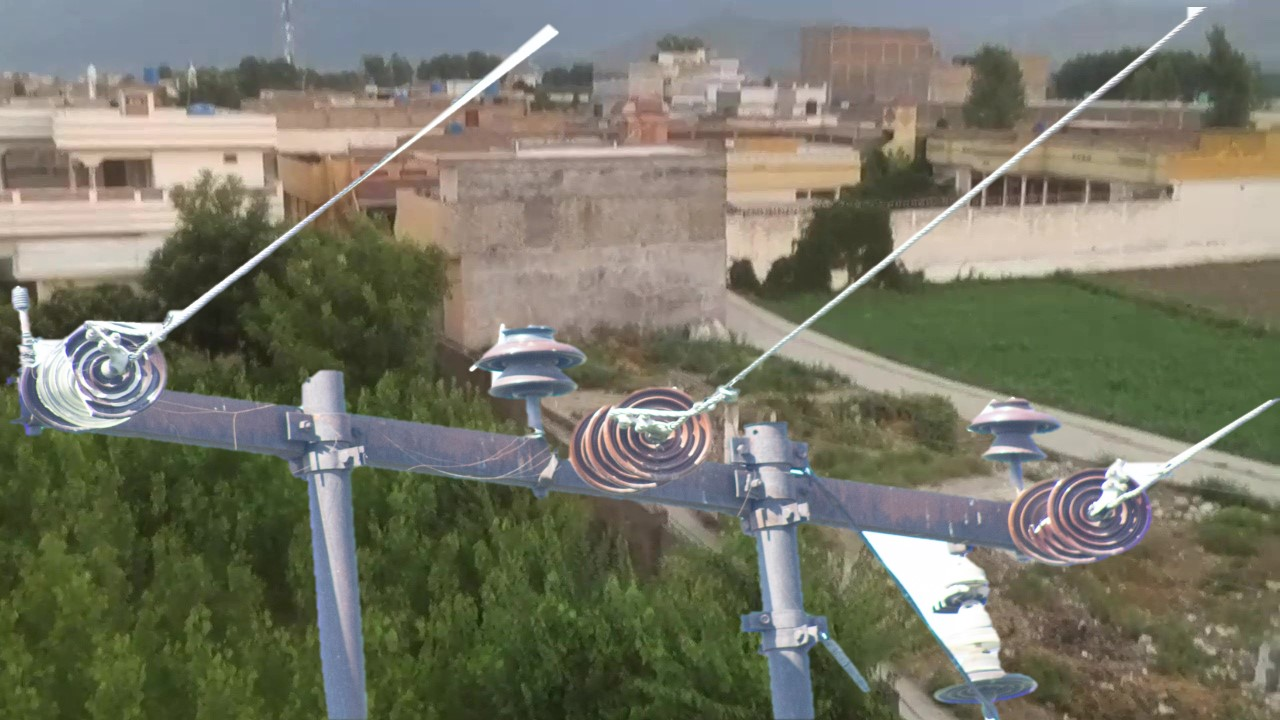defect_disc: (48, 315, 178, 439)
insulator_disc: (600, 384, 717, 483), (1046, 463, 1153, 557), (1003, 468, 1080, 564)
